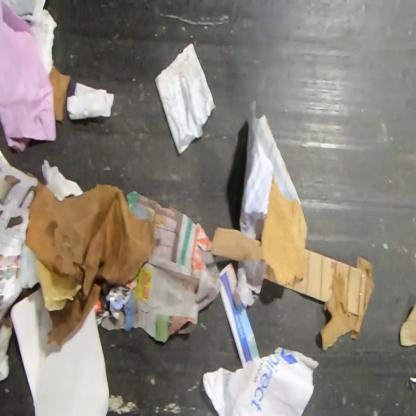cardboard: (211, 171, 376, 351), (49, 64, 73, 122), (399, 301, 415, 348)
